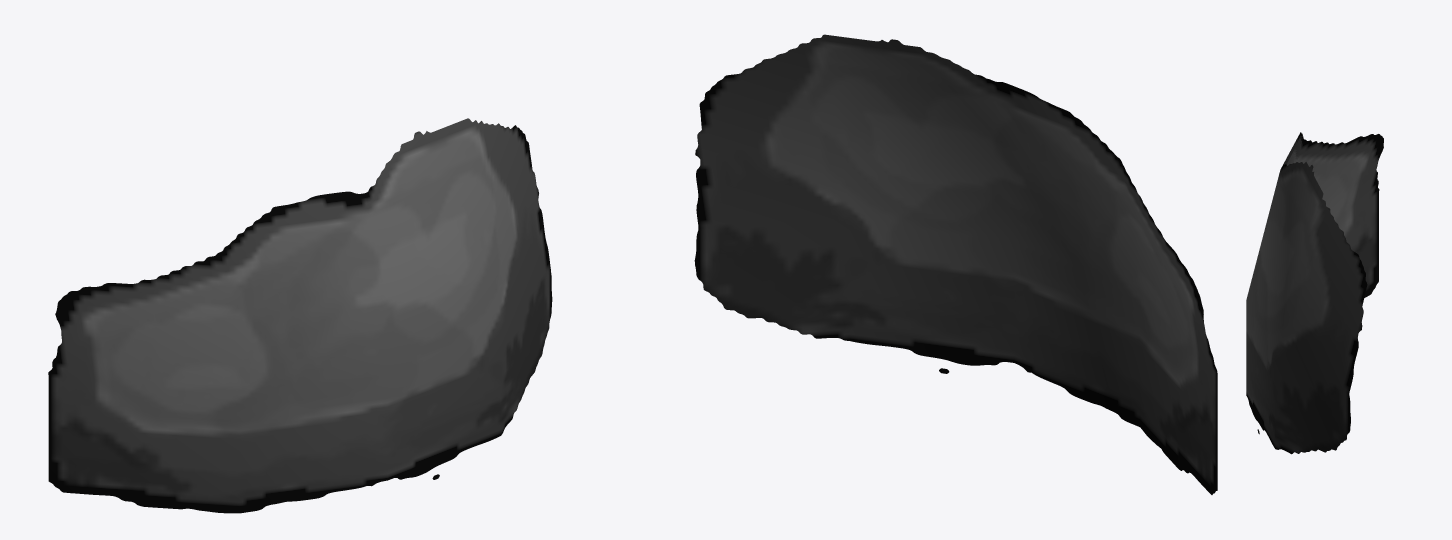
File: Rock.fbx
3 renders of one model, left to right at view 1: azimuth 30°, elevation 25°; view 2: azimuth 150°, elevation 25°; view 3: azimuth 270°, elevation 25°, orthographic. The views are drawn at different scales.
Visible parts, largest first — view 1: Plane.002; view 2: Plane.002; view 3: Plane.002.
Part boxes in pixels (bbox=[...]): Plane.002: bbox=[48, 118, 552, 513]; Plane.002: bbox=[694, 34, 1217, 494]; Plane.002: bbox=[1246, 132, 1383, 454].
Size of the model in its own units: 0.4558 by 0.289 by 0.1701.
1 material, 1 textured.
